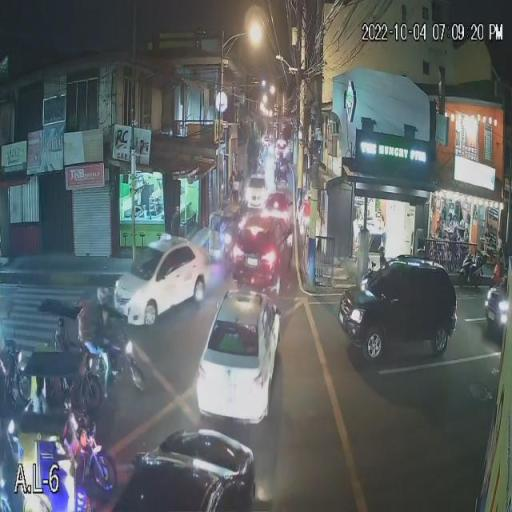helmet: (98, 286, 111, 306)
motorcycle: (85, 331, 155, 392)
rider: (98, 305, 119, 368)
